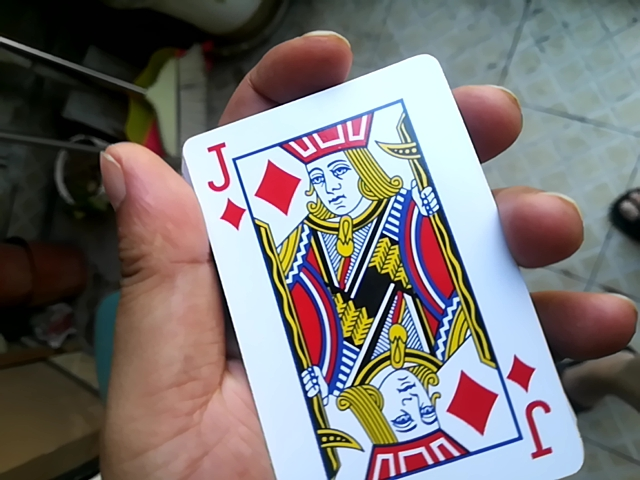fk j: (164, 52, 577, 480)
